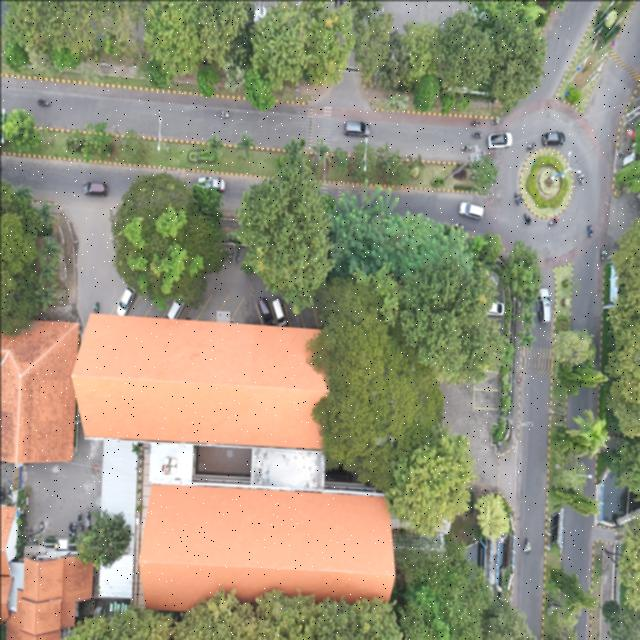Tree: (78, 510, 132, 566), (473, 488, 509, 537), (2, 109, 38, 152), (154, 204, 184, 242), (410, 74, 440, 110), (470, 158, 498, 192), (194, 61, 218, 98), (122, 214, 146, 250), (0, 41, 26, 71), (122, 248, 148, 276), (234, 128, 256, 160), (203, 132, 225, 160), (515, 304, 537, 328), (518, 328, 534, 348)
